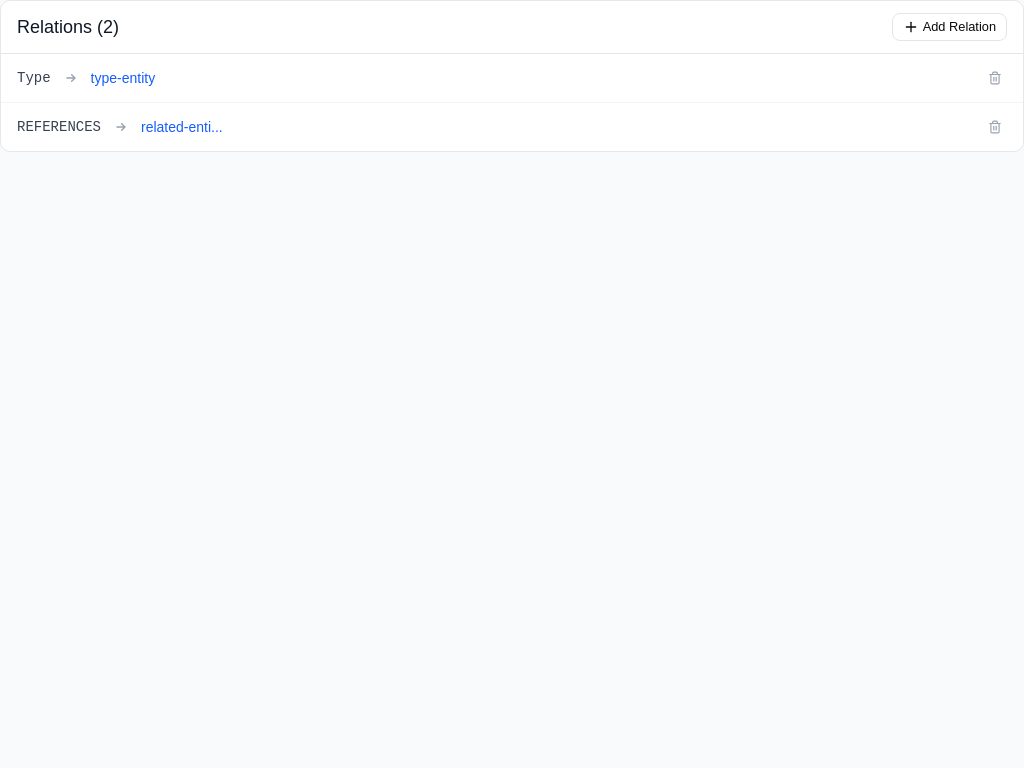
it: RelationsPanel › Remove Relation › shows error in dialog when mutation fails
Click the button with test id "remove-relation-button-0".
click(995, 78)  # box [983, 66, 1007, 90]
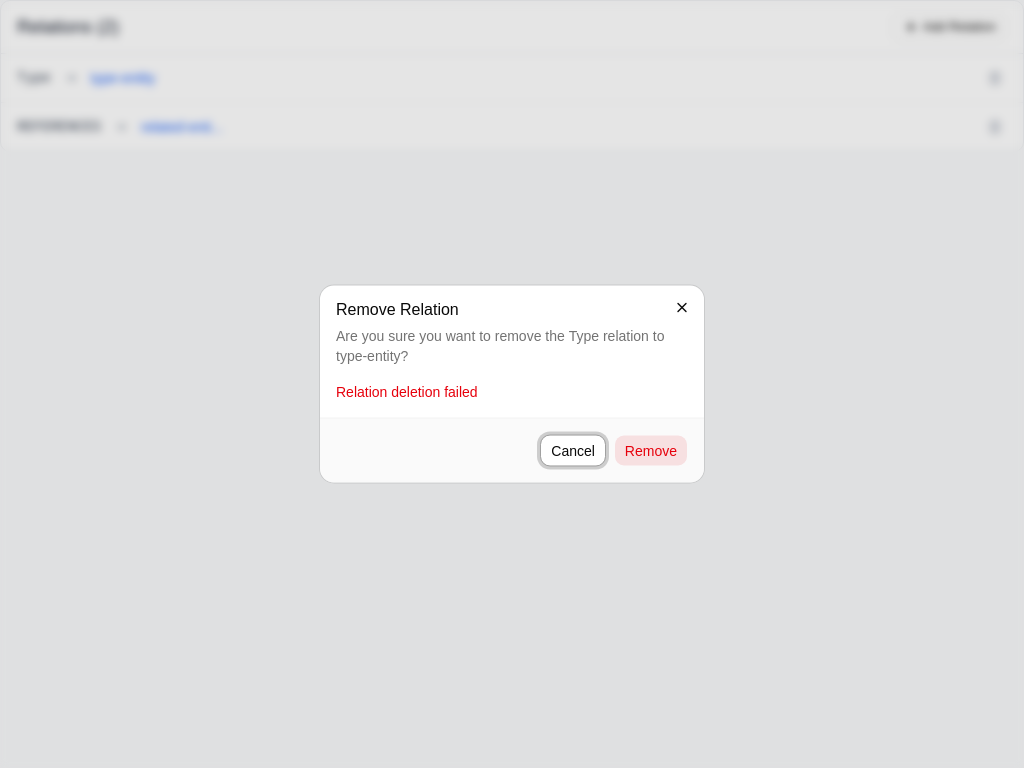
Check: the text with test id "remove-relation-error" reads "Relation deletion failed", box [336, 384, 478, 400]
